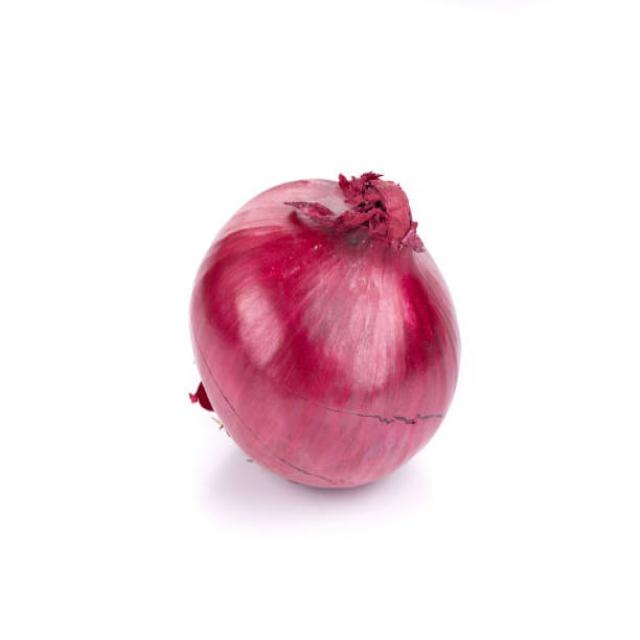onion: (190, 158, 462, 492)
